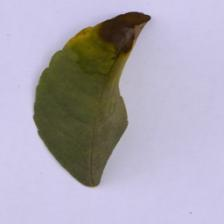black spot: (86, 10, 160, 54)
